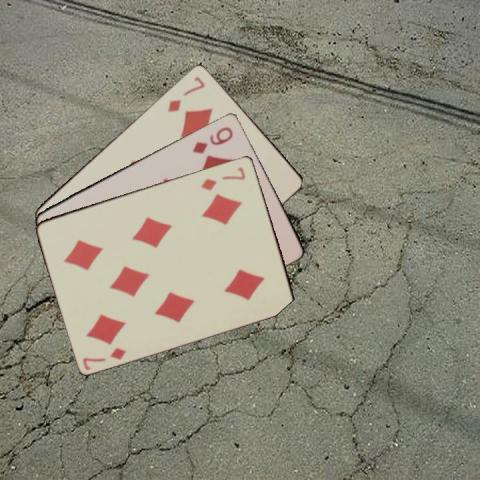7d: (164, 74, 206, 114), (198, 164, 247, 192), (80, 344, 128, 371)
9d: (189, 123, 235, 155)
